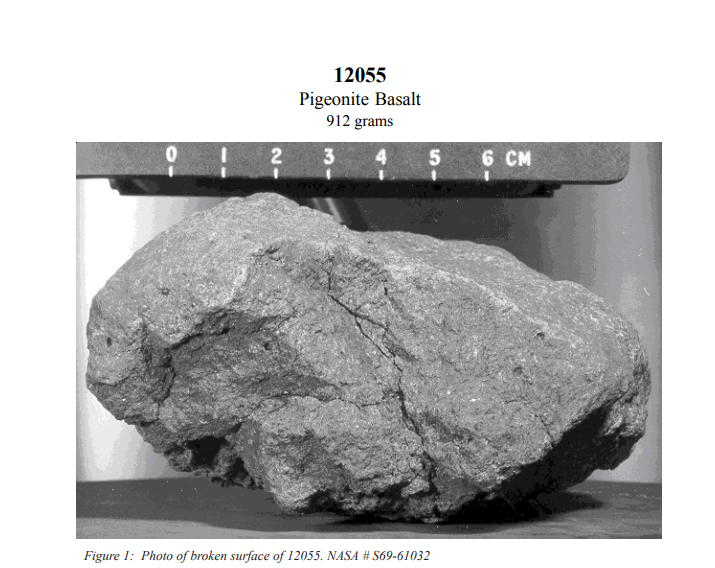Basalt: (79, 177, 656, 524)
